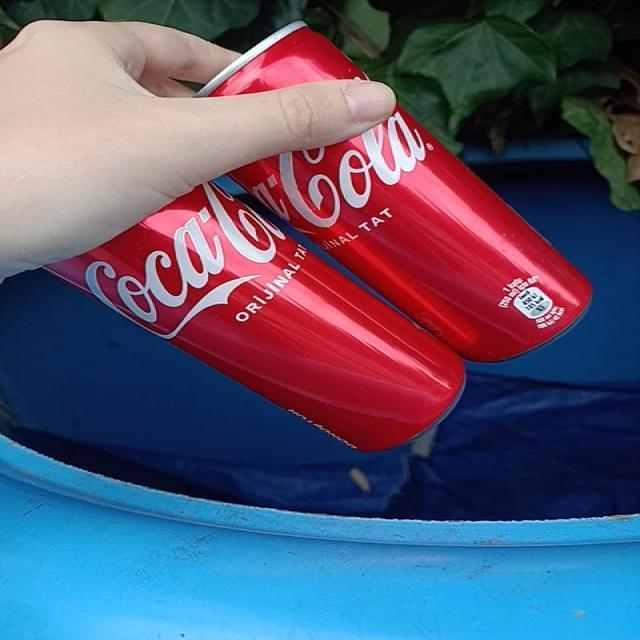Bin: (3, 140, 640, 522), (2, 478, 639, 640)
Metal: (47, 184, 463, 450), (232, 107, 592, 362), (199, 22, 365, 94)
